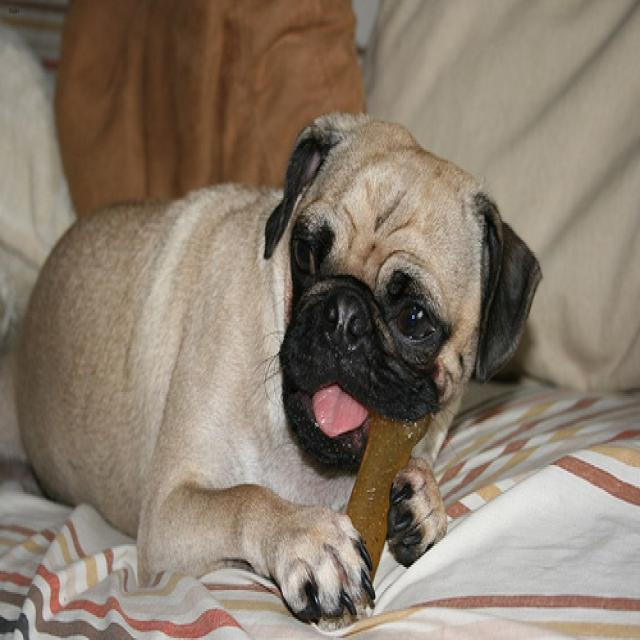dog-pug: (6, 104, 547, 632)
